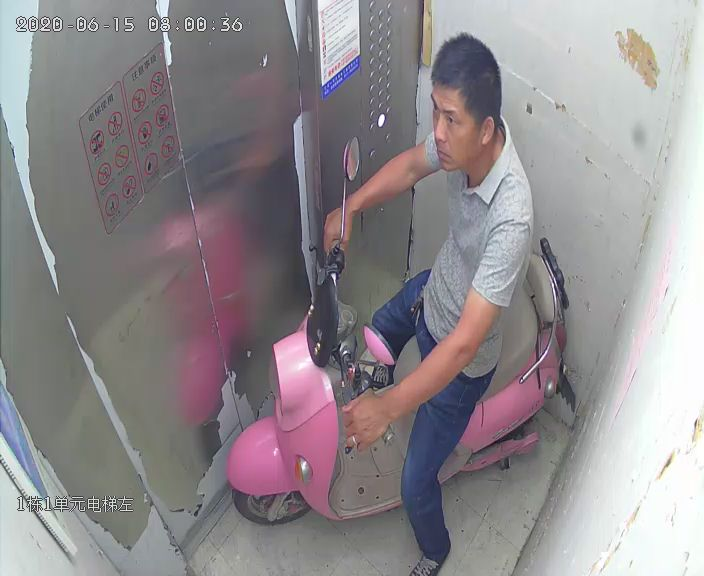Electric-bicycle: (232, 138, 572, 533)
